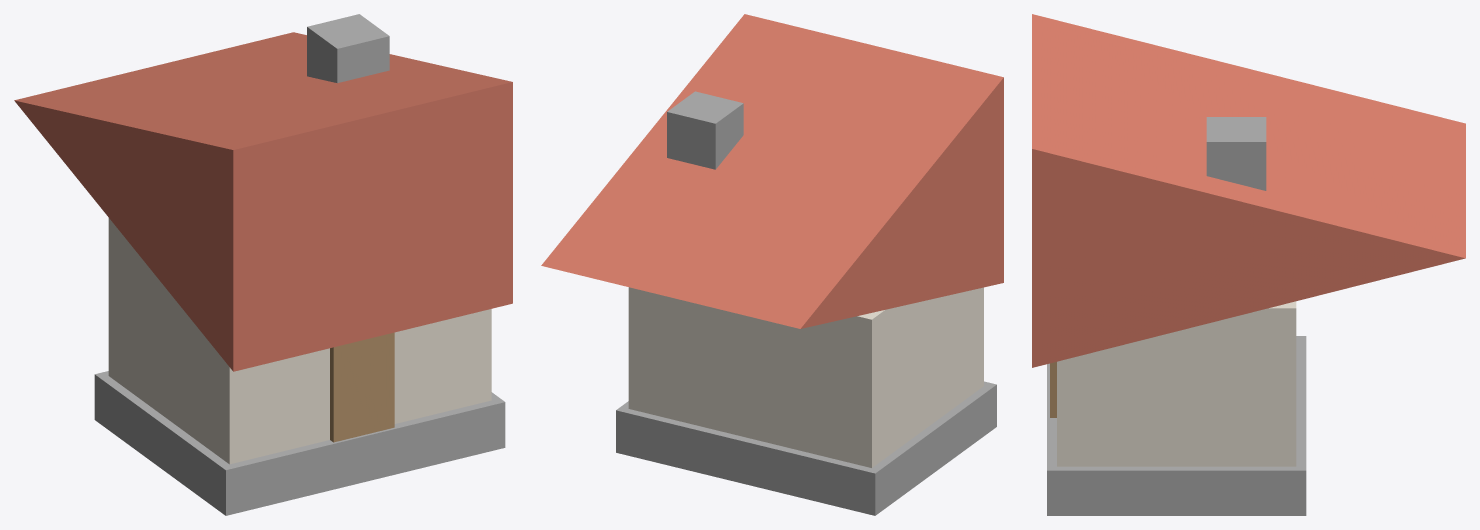
Rendered from building_house.glb.
3 renders of one model, left to right at view 1: azimuth 30°, elevation 25°; view 2: azimuth 150°, elevation 25°; view 3: azimuth 270°, elevation 25°, orthographic. The views are drawn at different scales.
Visible parts, largest first — view 1: Cylinder, Cube, Cube.001, Cube.003, Cube.002; view 2: Cylinder, Cube, Cube.001, Cube.002; view 3: Cylinder, Cube, Cube.001, Cube.002.
Boxes of the visible parts, x1,y1,x2,y2 form: Cylinder: (14, 32, 512, 371); Cube: (108, 218, 491, 464); Cube.001: (94, 371, 505, 515); Cube.003: (330, 332, 394, 442); Cube.002: (307, 14, 389, 83); Cylinder: (541, 14, 1003, 328); Cube: (628, 287, 983, 467); Cube.001: (616, 381, 996, 515); Cube.002: (667, 91, 743, 169); Cylinder: (1032, 14, 1465, 367); Cube: (1057, 301, 1296, 466); Cube.001: (1047, 336, 1306, 515); Cube.002: (1206, 117, 1266, 190).
Bounding box in the file's own units: 1.6 × 2.03 × 2.18.
